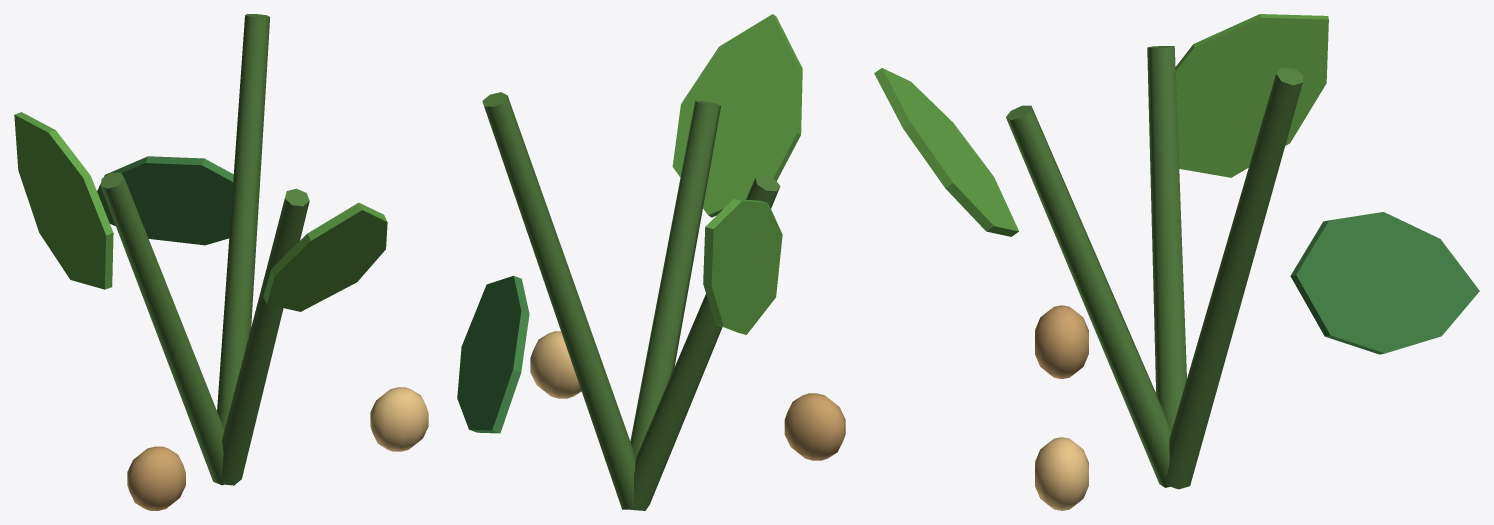
The model's file is potato-growing.glb.
The picture shows the model from 3 angles, left to right: view 1: azimuth 30°, elevation 25°; view 2: azimuth 150°, elevation 25°; view 3: azimuth 270°, elevation 25°; orthographic projection. The views are drawn at different scales.
Visible parts, largest first — view 1: potato_growing_stem, potato_growing_leaf, potato_growing_leafDark, potato_growing_potatoLight, potato_growing_potato; view 2: potato_growing_stem, potato_growing_leaf, potato_growing_leafDark, potato_growing_potato, potato_growing_potatoLight; view 3: potato_growing_stem, potato_growing_leaf, potato_growing_leafDark, potato_growing_potatoLight, potato_growing_potato.
Part boxes in pixels (<box>): potato_growing_stem: <box>100,14,309,485</box>; potato_growing_leaf: <box>14,112,387,311</box>; potato_growing_leafDark: <box>97,156,259,245</box>; potato_growing_potatoLight: <box>370,387,428,451</box>; potato_growing_potato: <box>127,446,185,510</box>; potato_growing_stem: <box>482,92,780,510</box>; potato_growing_leaf: <box>672,14,802,334</box>; potato_growing_leafDark: <box>457,275,529,433</box>; potato_growing_potato: <box>784,393,845,460</box>; potato_growing_potatoLight: <box>530,331,581,398</box>; potato_growing_stem: <box>1006,46,1303,489</box>; potato_growing_leaf: <box>874,14,1328,236</box>; potato_growing_leafDark: <box>1290,212,1479,354</box>; potato_growing_potatoLight: <box>1035,437,1088,510</box>; potato_growing_potato: <box>1035,305,1088,378</box>.
Bounding box in the file's own units: 0.2687 × 0.3552 × 0.4271.
